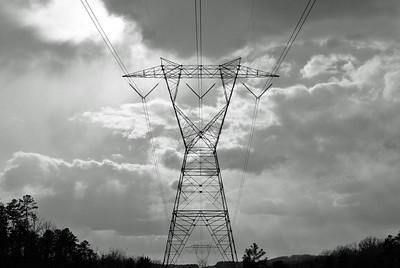power_tower: (122, 52, 282, 268)
